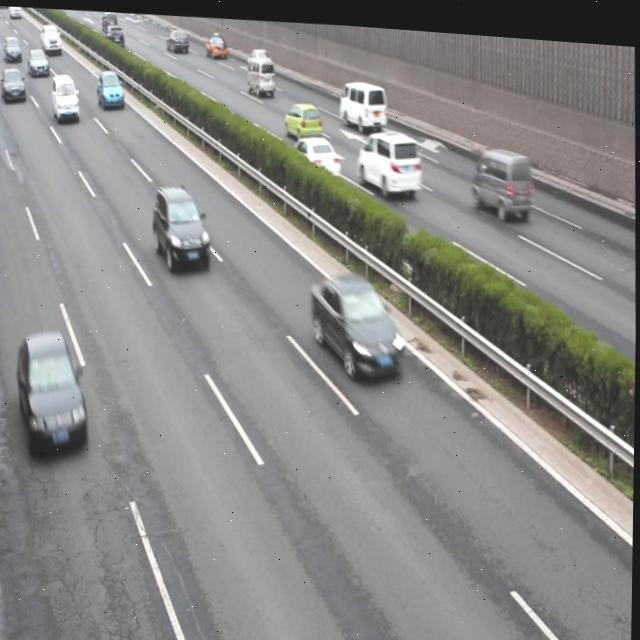car: (309, 264, 404, 377), (18, 329, 90, 451), (151, 179, 212, 270), (358, 123, 422, 193), (291, 130, 339, 174), (283, 95, 321, 135), (52, 73, 79, 120), (97, 69, 124, 106), (0, 66, 26, 100), (246, 41, 272, 67), (28, 47, 50, 74), (206, 28, 227, 54), (166, 26, 187, 50), (105, 23, 123, 51)
truck: (471, 140, 531, 212), (339, 74, 387, 122), (247, 52, 274, 92)
